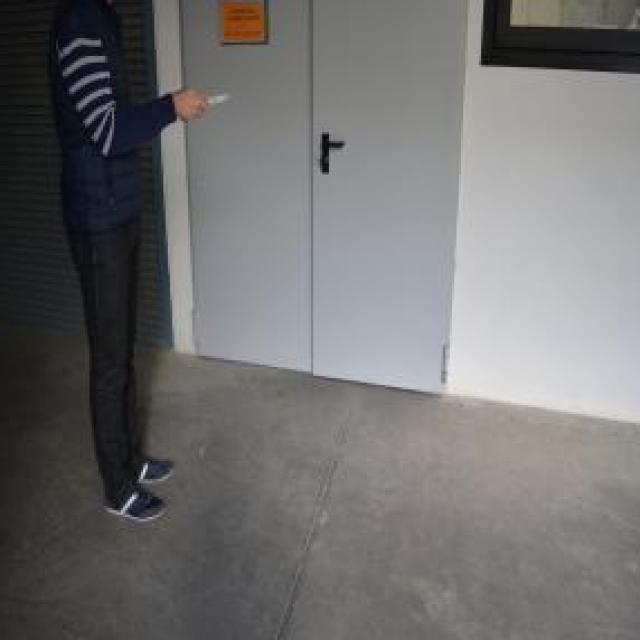knife: (200, 87, 235, 110)
